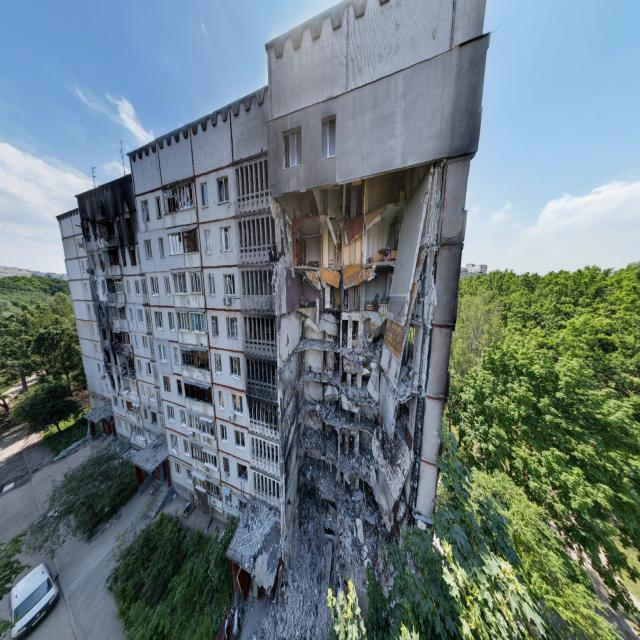broken_window: (162, 179, 195, 214), (184, 381, 213, 405), (180, 349, 210, 371), (182, 230, 199, 254), (216, 178, 229, 203), (220, 225, 232, 252), (230, 354, 242, 379), (226, 317, 238, 341), (224, 273, 235, 297), (232, 394, 243, 417), (237, 463, 248, 485), (141, 200, 149, 225), (236, 428, 244, 452), (238, 497, 249, 513), (214, 353, 222, 375), (208, 275, 216, 297), (223, 456, 230, 478), (98, 254, 107, 271), (218, 389, 224, 413), (118, 305, 128, 319), (131, 248, 138, 266), (212, 314, 217, 339)
building: (57, 0, 489, 625)
damage: (273, 150, 475, 625), (78, 177, 138, 249), (89, 278, 115, 394), (113, 330, 132, 353), (118, 355, 136, 378), (106, 246, 120, 265), (105, 275, 116, 294)
other: (428, 0, 640, 640), (0, 417, 427, 640), (418, 150, 475, 640)
